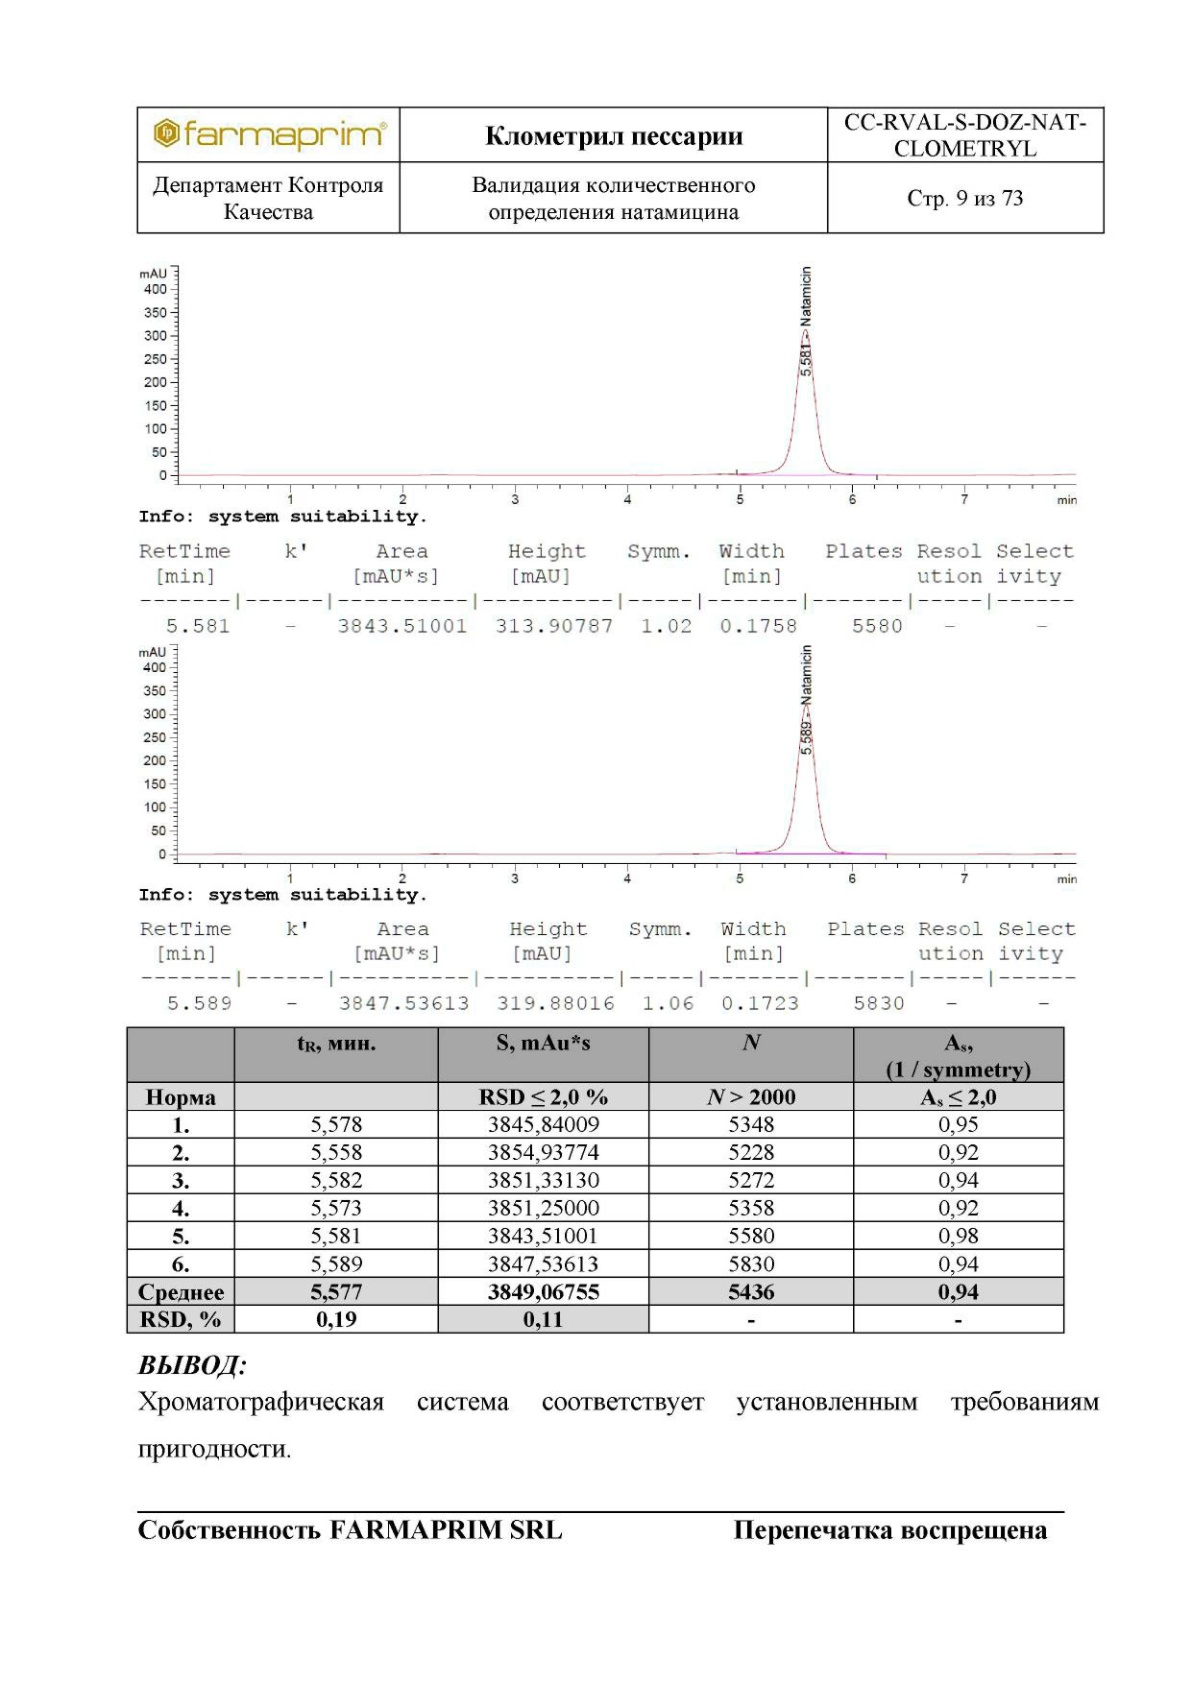full_lined: (124, 1024, 1066, 1336), (135, 104, 1106, 236)
partial_lined: (138, 540, 1076, 642), (138, 917, 1082, 1017)
